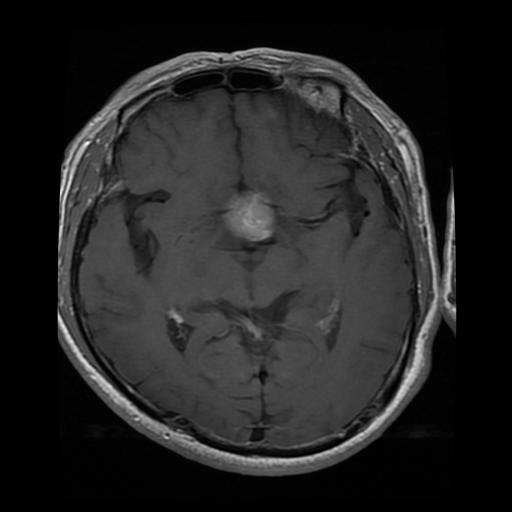Tumour-Pituitary: (221, 192, 281, 244)
